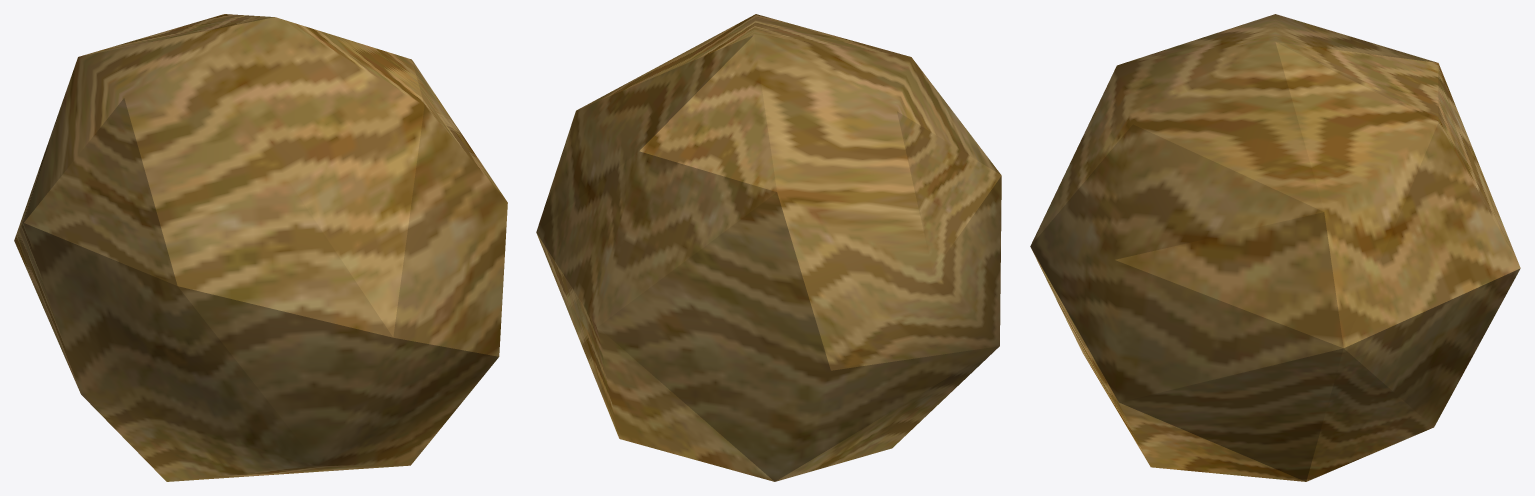
File: donkey_course-rock.glb
The picture shows the model from 3 angles, left to right: view 1: azimuth 30°, elevation 25°; view 2: azimuth 150°, elevation 25°; view 3: azimuth 270°, elevation 25°; orthographic projection. The views are drawn at different scales.
Visible parts, largest first — view 1: rock; view 2: rock; view 3: rock.
Boxes of the visible parts, left/top/right/bottom form: rock: left=14, top=14, right=507, bottom=481; rock: left=536, top=14, right=1001, bottom=481; rock: left=1030, top=14, right=1520, bottom=481.
Size of the model in its own units: 3.55 by 3.56 by 3.79.
1 material, 1 textured.
